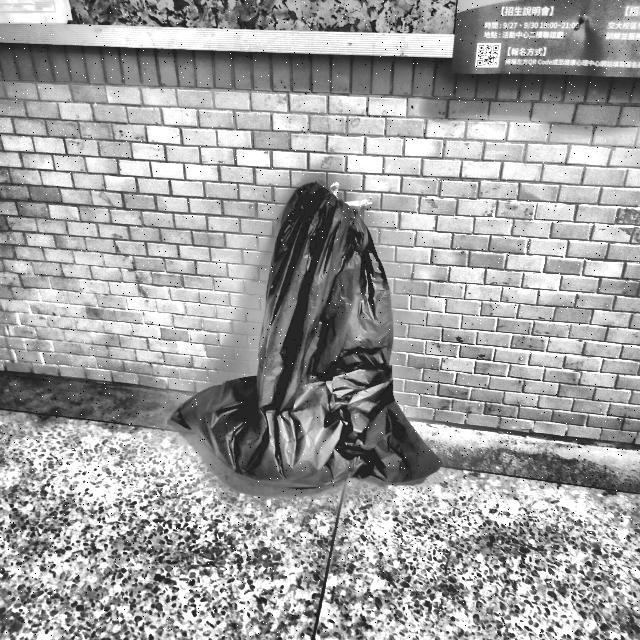Trashbag: (170, 173, 442, 502)
